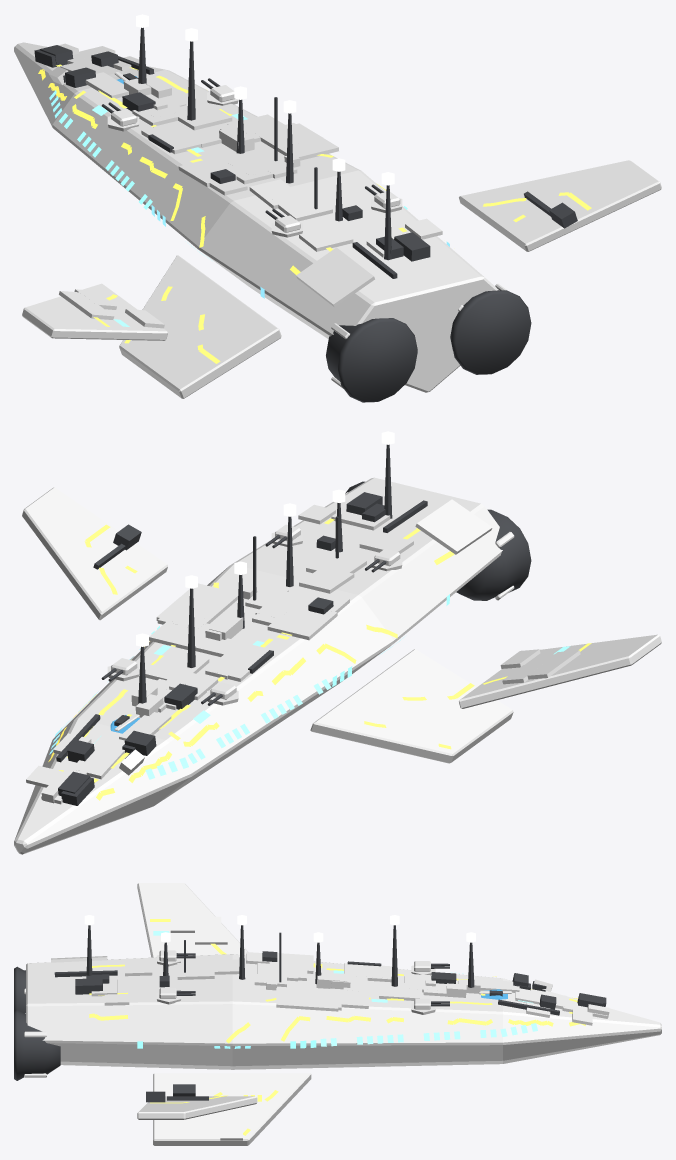
Rendered from burevestnik.glb.
The picture shows the model from 3 angles, top to bottom: view 1: azimuth 30°, elevation 25°; view 2: azimuth 150°, elevation 25°; view 3: azimuth 270°, elevation 25°; orthographic projection. The views are drawn at different scales.
Visible parts, largest first — view 1: Корпус, Накладные_плиты, Крыло_внутр.001, Крыло_внеш, Кожух_дюзы.001, Механика, Кожух_дюзы, Крыло_внеш.001, Разметка, Решётки; view 2: Корпус, Накладные_плиты, Крыло_внутр.001, Крыло_внеш, Механика, Крыло_внеш.001, Разметка, Кожух_дюзы.001, Решётки; view 3: Корпус, Накладные_плиты, Крыло_внутр, Механика, Крыло_внеш.001, Разметка, Кожух_дюзы, Крыло_внеш, Решётки, Кожух_дюзы.001.
Part boxes in pixels (x1,y1,x2,y2): Корпус: (14, 42, 499, 392); Накладные_плиты: (49, 43, 442, 328); Крыло_внутр.001: (119, 255, 281, 398); Крыло_внеш: (459, 160, 661, 251); Кожух_дюзы.001: (326, 318, 417, 402); Механика: (34, 45, 577, 278); Кожух_дюзы: (450, 288, 531, 374); Крыло_внеш.001: (22, 283, 167, 340); Разметка: (38, 64, 591, 363); Решётки: (49, 90, 449, 326); Корпус: (14, 477, 502, 854); Накладные_плиты: (26, 499, 580, 804); Крыло_внутр.001: (310, 649, 513, 763); Крыло_внеш: (22, 487, 167, 620); Механика: (56, 492, 427, 805); Крыло_внеш.001: (459, 634, 661, 708); Разметка: (48, 518, 591, 800); Кожух_дюзы.001: (456, 509, 531, 600); Решётки: (49, 594, 570, 779); Корпус: (26, 954, 661, 1069); Накладные_плиты: (51, 916, 609, 1140); Крыло_внутр: (153, 1073, 311, 1145); Механика: (54, 932, 606, 1102); Крыло_внеш.001: (137, 883, 248, 957); Разметка: (89, 919, 585, 1135); Кожух_дюзы: (14, 1010, 60, 1080); Крыло_внеш: (137, 1096, 257, 1119); Решётки: (137, 931, 537, 1048); Кожух_дюзы.001: (14, 966, 25, 1013).
Size of the model in its own units: 1.72 by 0.5789 by 2.04.
